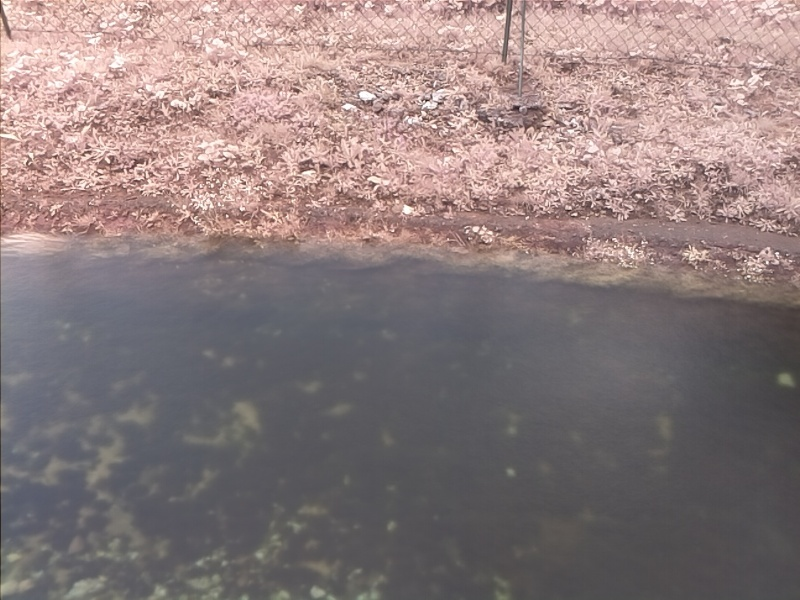Water: (1, 230, 800, 598)
